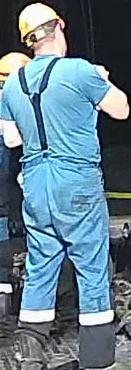helmet: (18, 0, 61, 45), (0, 51, 31, 81)
